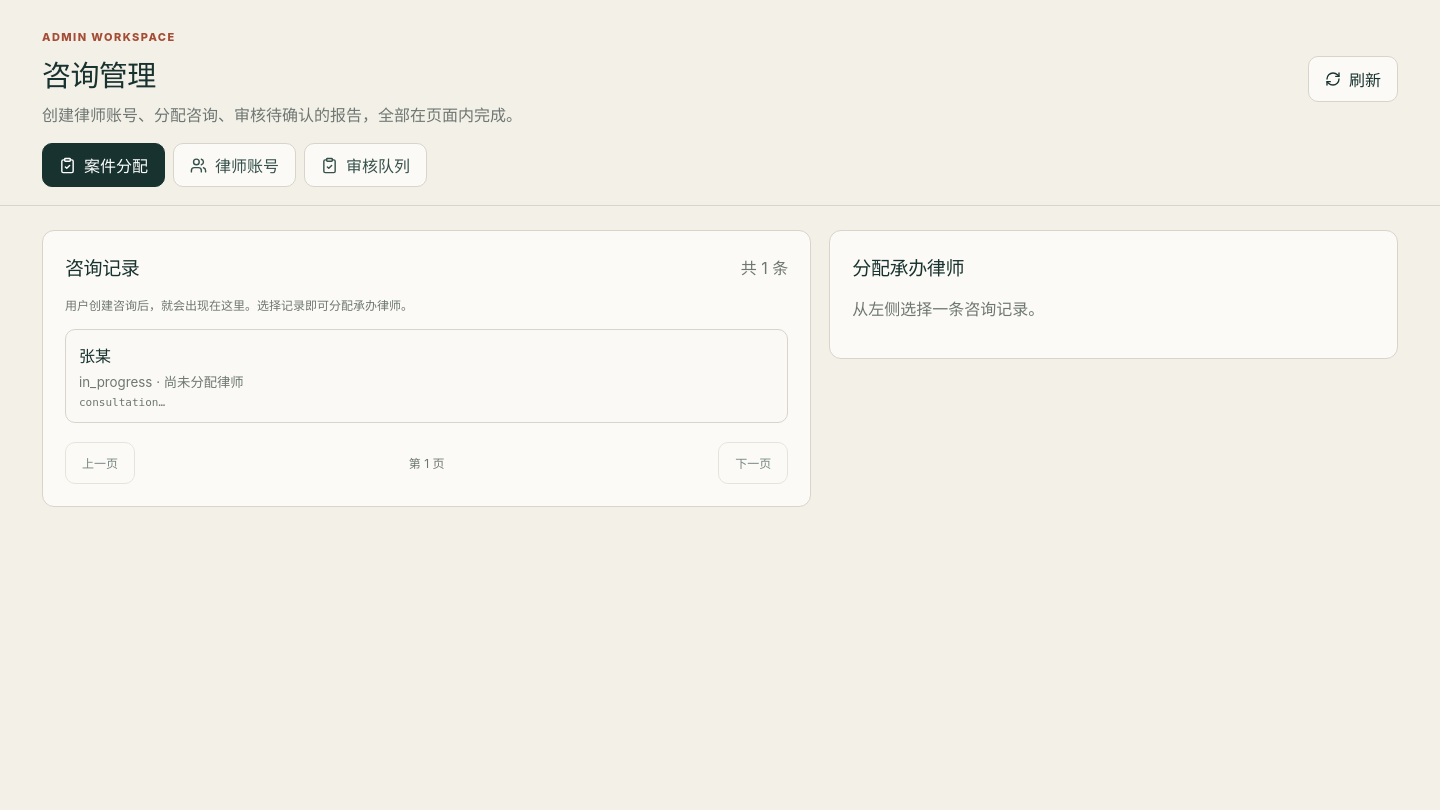
Test: AdminWorkspace basic operations › creates a lawyer with the protected admin endpoint and does not display the password afterwards
This screenshot has width=1440, height=810.
Click the button "律师账号". click: (234, 165)
box: [173,143,296,187]
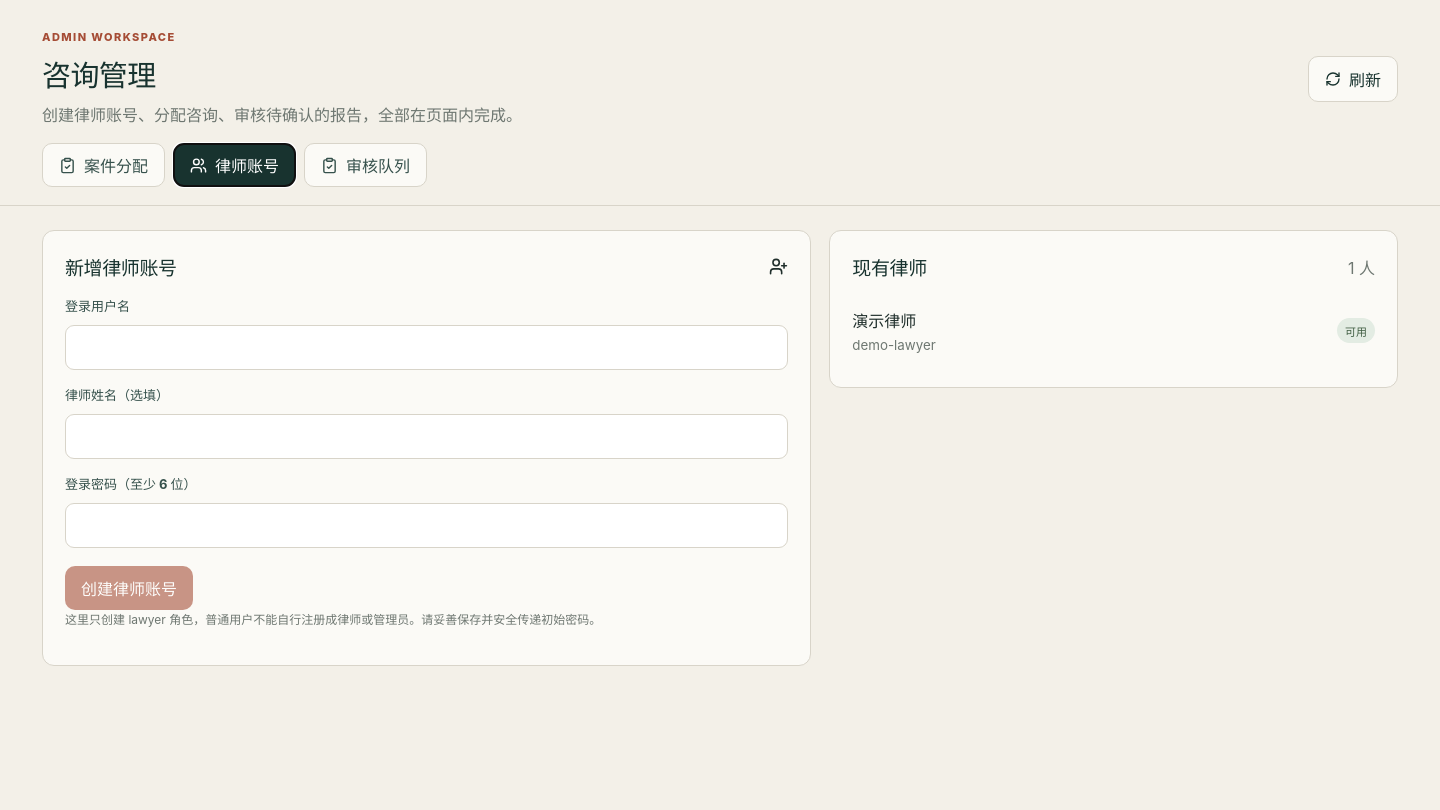
Type "new-lawyer" into the field labelled "登录用户名". click: (427, 348)
box: [65,325,788,370]
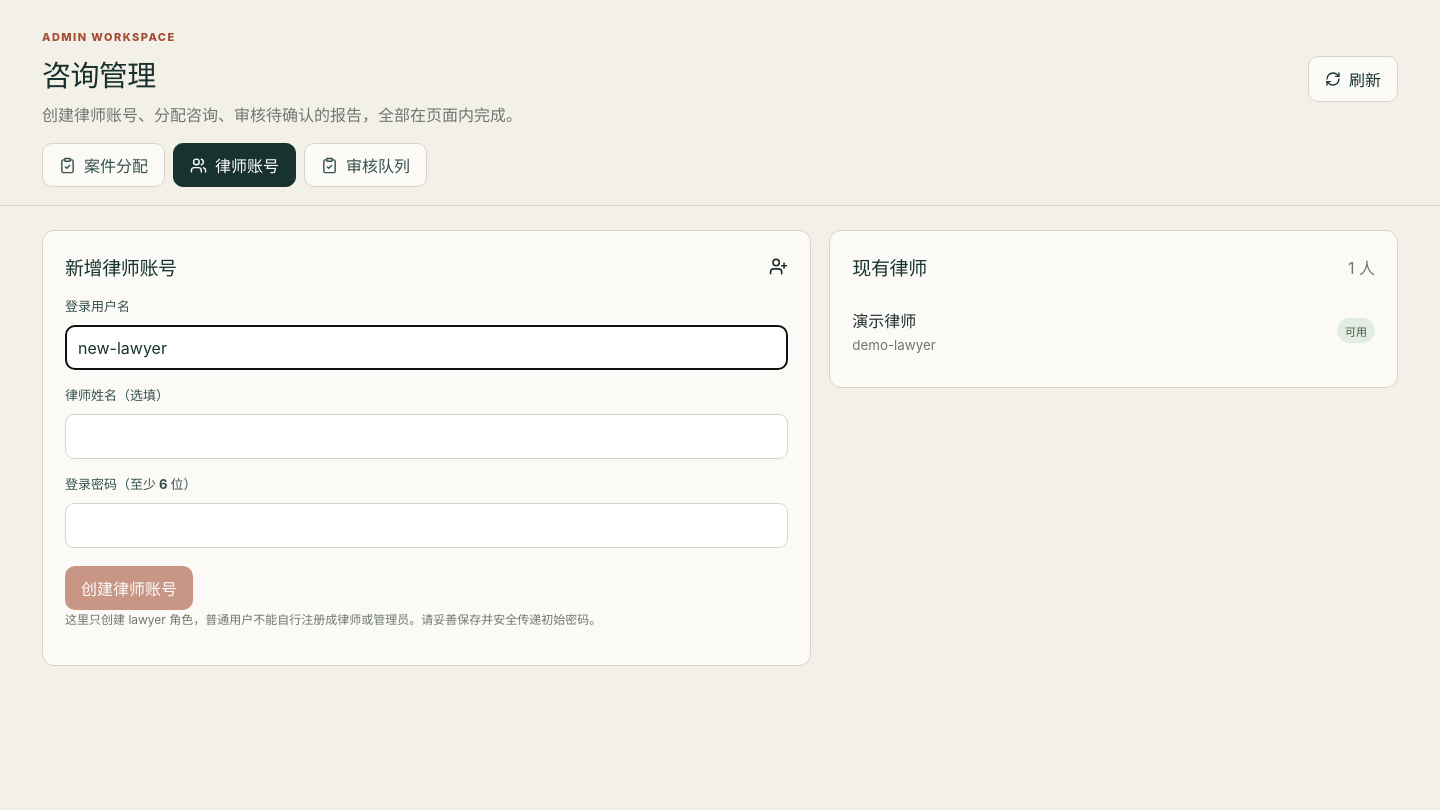
Type "新律师" into the field labelled "律师姓名（选填）". click: (427, 437)
box: [65,414,788,459]
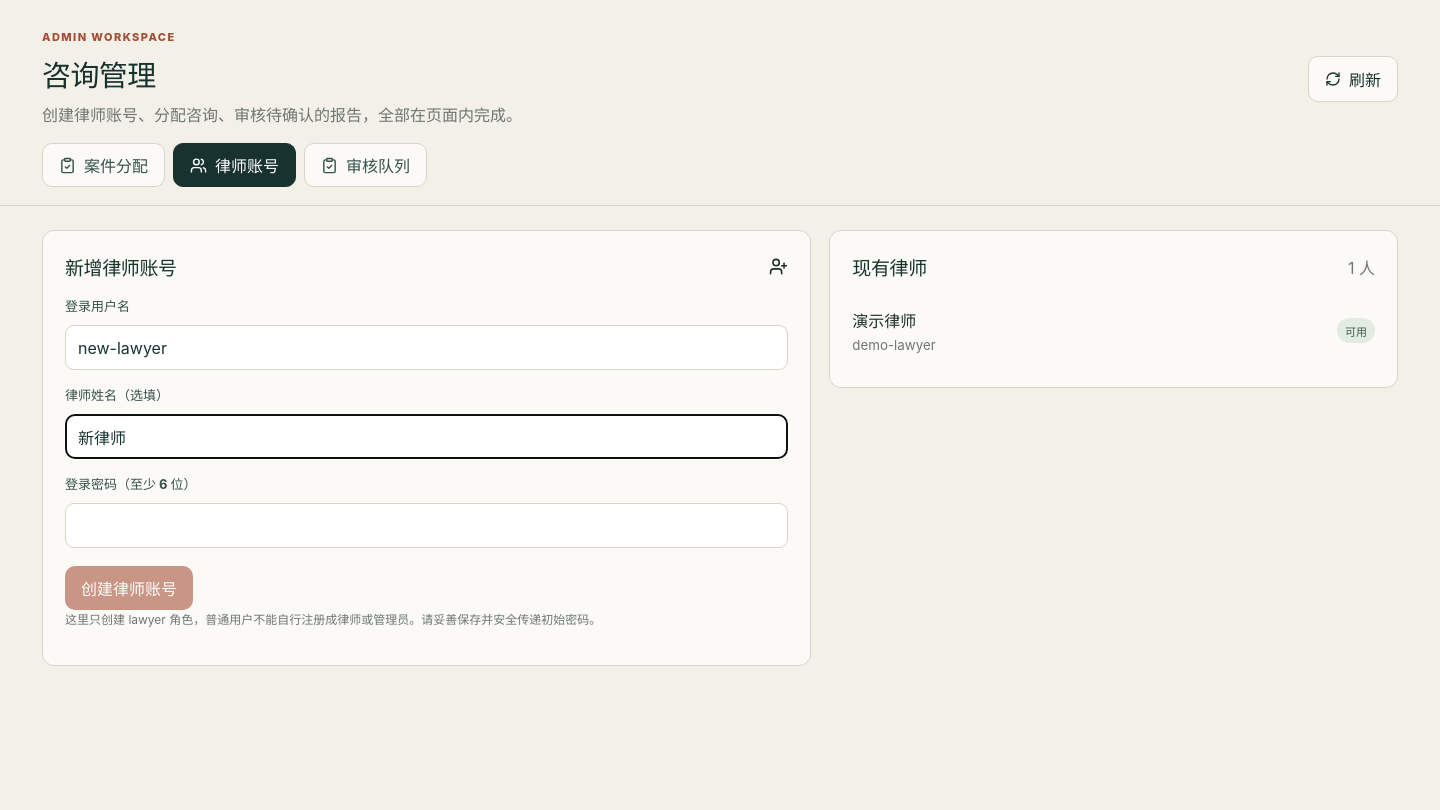
Type "some-password" into the password field labelled "登录密码（至少 6 位）". click: (427, 526)
box: [65,503,788,548]
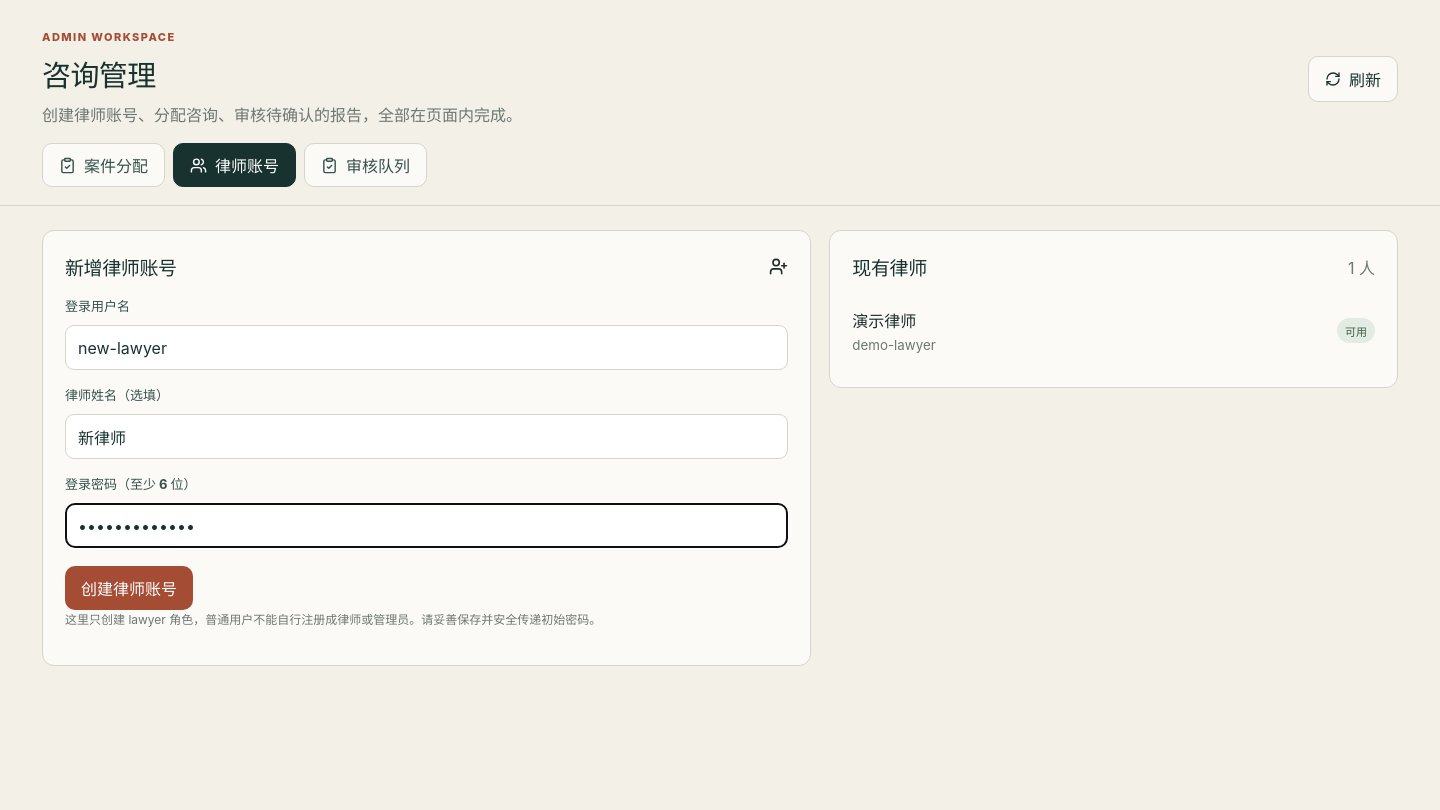
Click the button "创建律师账号". click: (129, 588)
box: [65,566,193,610]
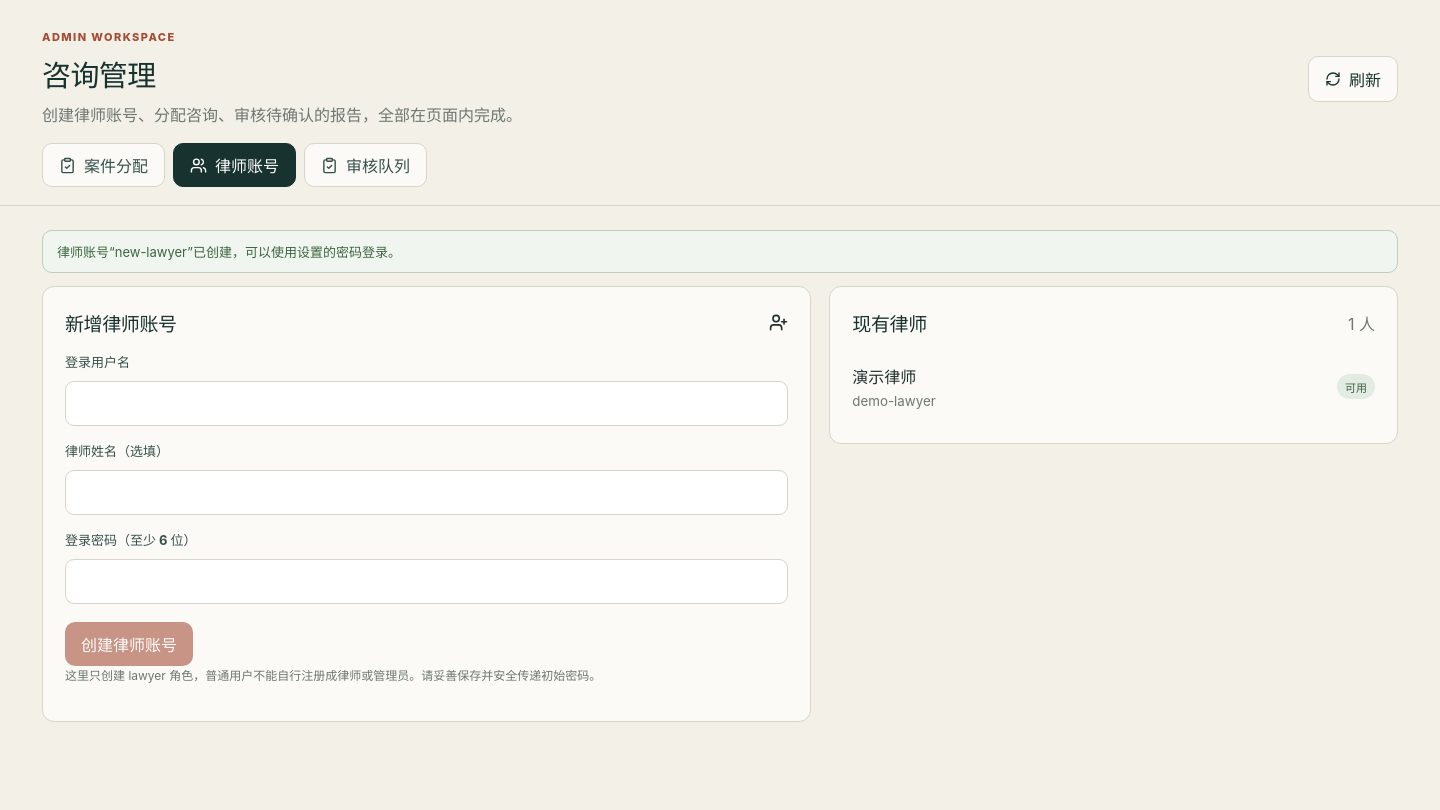
Now the message shows "已创建", box [57,244,401,260]
